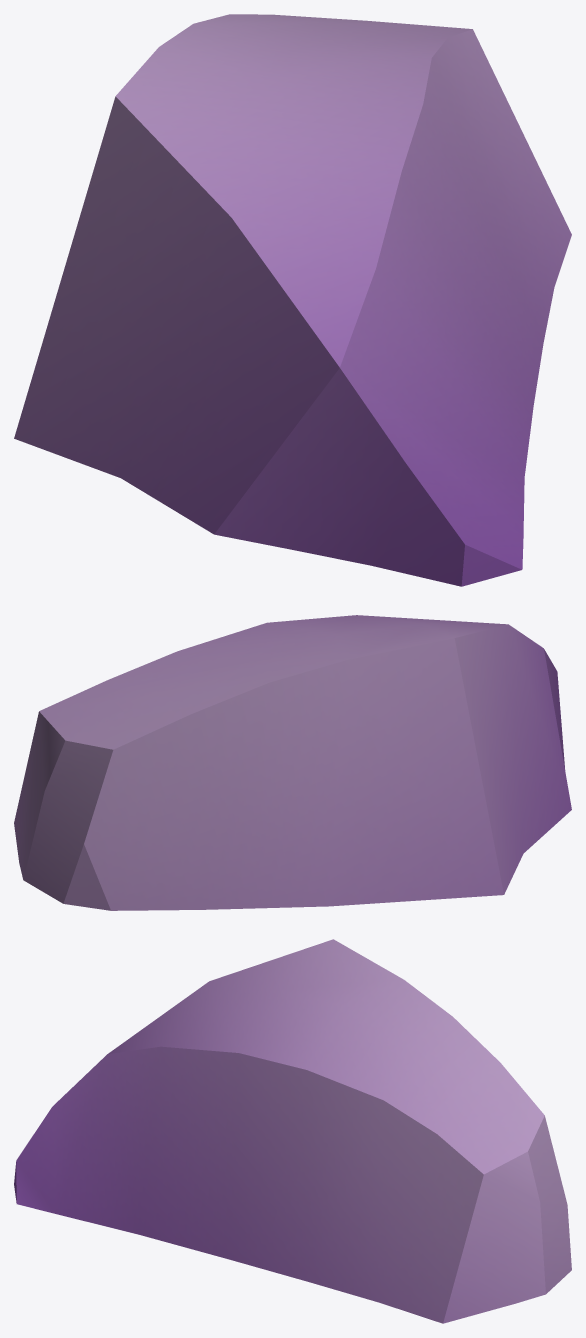
The model's file is Night_Stone_005.FBX.
3 renders of one model, top to bottom at view 1: azimuth 30°, elevation 25°; view 2: azimuth 150°, elevation 25°; view 3: azimuth 270°, elevation 25°, orthographic. The views are drawn at different scales.
Visible parts, largest first — view 1: Night_Stone_005; view 2: Night_Stone_005; view 3: Night_Stone_005.
Boxes of the visible parts, left/top/right/bottom form: Night_Stone_005: left=14, top=14, right=571, bottom=586; Night_Stone_005: left=14, top=615, right=571, bottom=910; Night_Stone_005: left=14, top=939, right=571, bottom=1323.
Size of the model in its own units: 192 by 97.39 by 230.
1 material, 1 textured.
